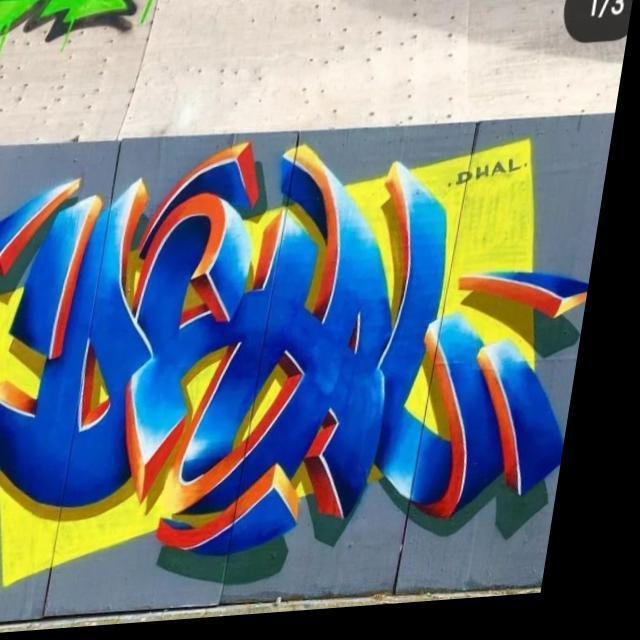-: (0, 120, 621, 618), (444, 153, 548, 204)
